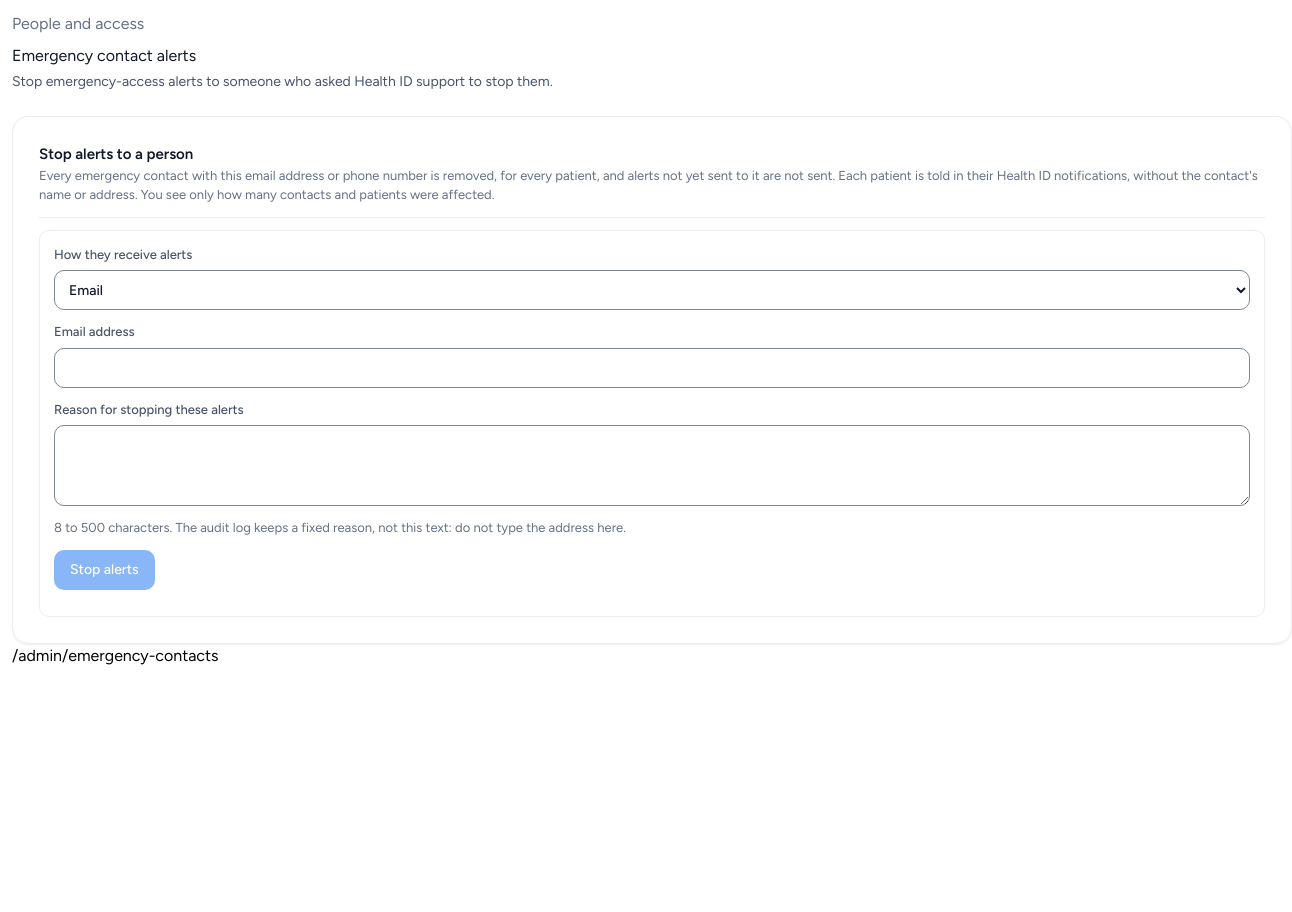
Test: stopping alerts to a person › sends the channel, address and reason with one key per submission, shows counts only and clears the address
Type " ada@example.com " into the field labelled "Email address". click: (652, 368)
box: [54, 348, 1250, 388]
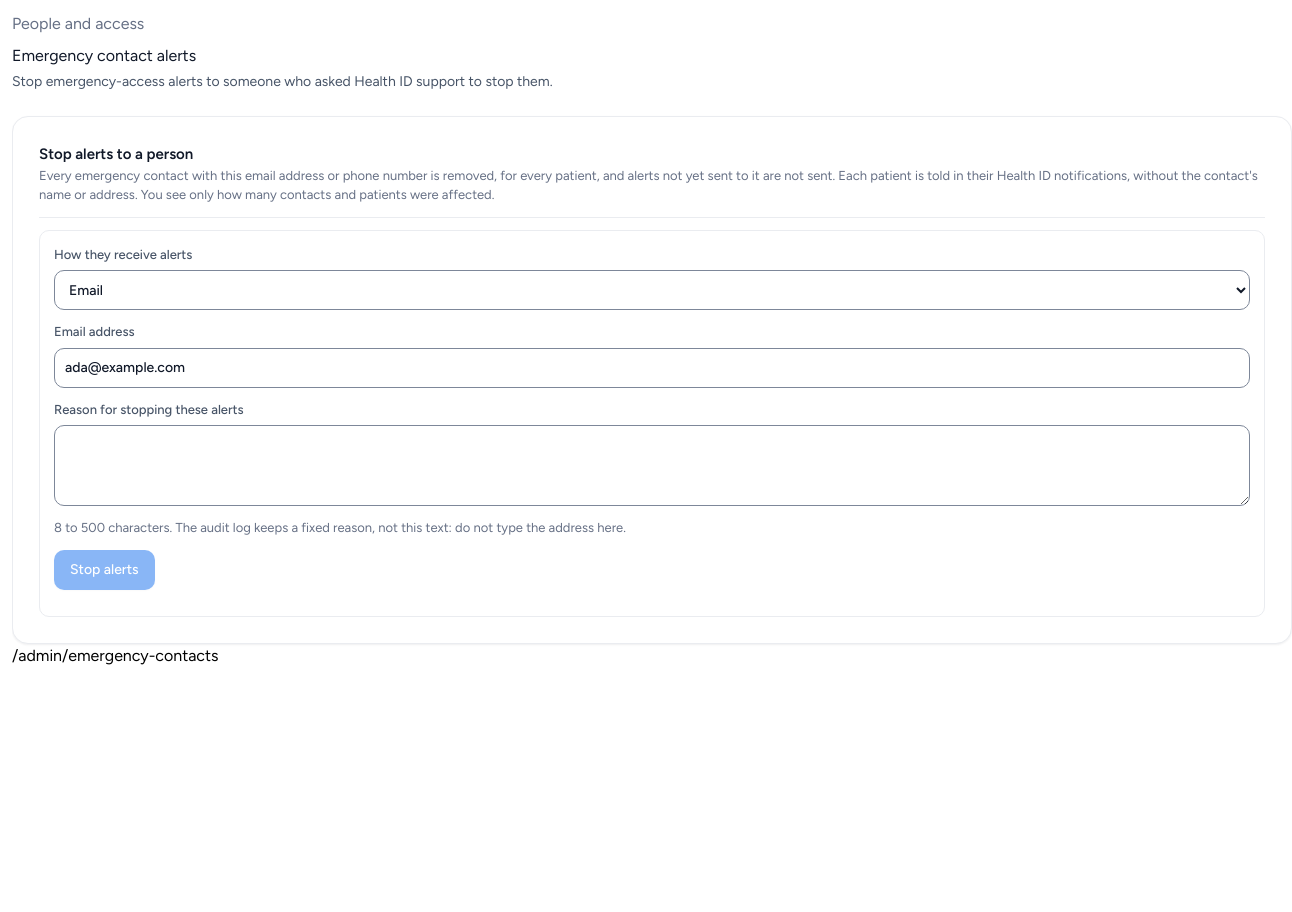
Check: the button "Stop alerts" is disabled, box [54, 550, 155, 590]
Type "Recipient called support" into the text box labelled "Reason for stopping these alerts". click: (652, 466)
box: [54, 425, 1250, 506]
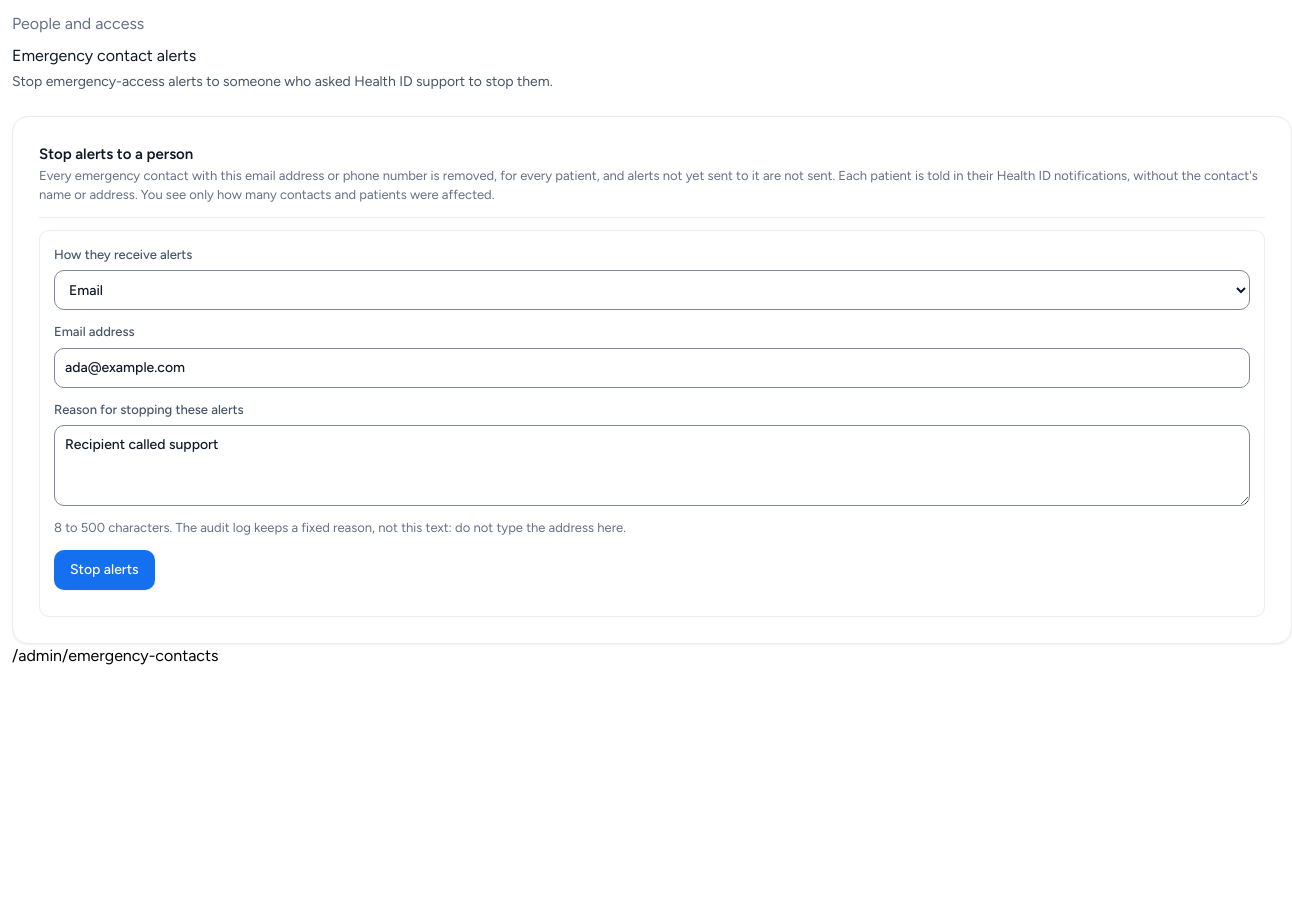
Click the button "Stop alerts". click: (104, 570)
box: [54, 550, 155, 590]
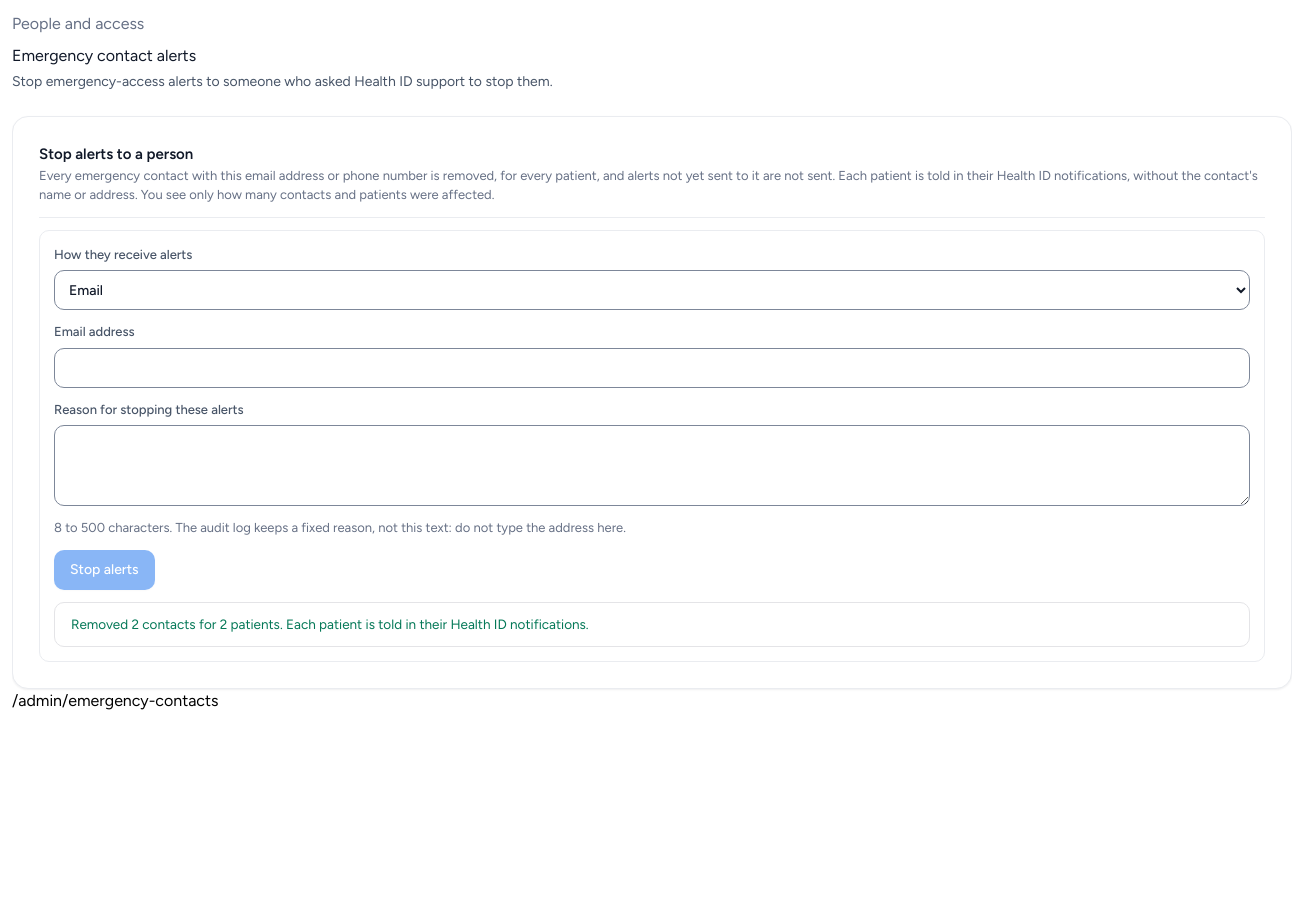
Check: the text "Removed 2 contacts for 2 patients. Each patient is told in their Health ID notifications." is shown, box [71, 616, 589, 632]
Check: the field labelled "Email address" is empty
Check: the text box labelled "Reason for stopping these alerts" is empty, box [54, 425, 1250, 506]
Type "nobody@example.com" into the field labelled "Email address". click: (652, 368)
box: [54, 348, 1250, 388]
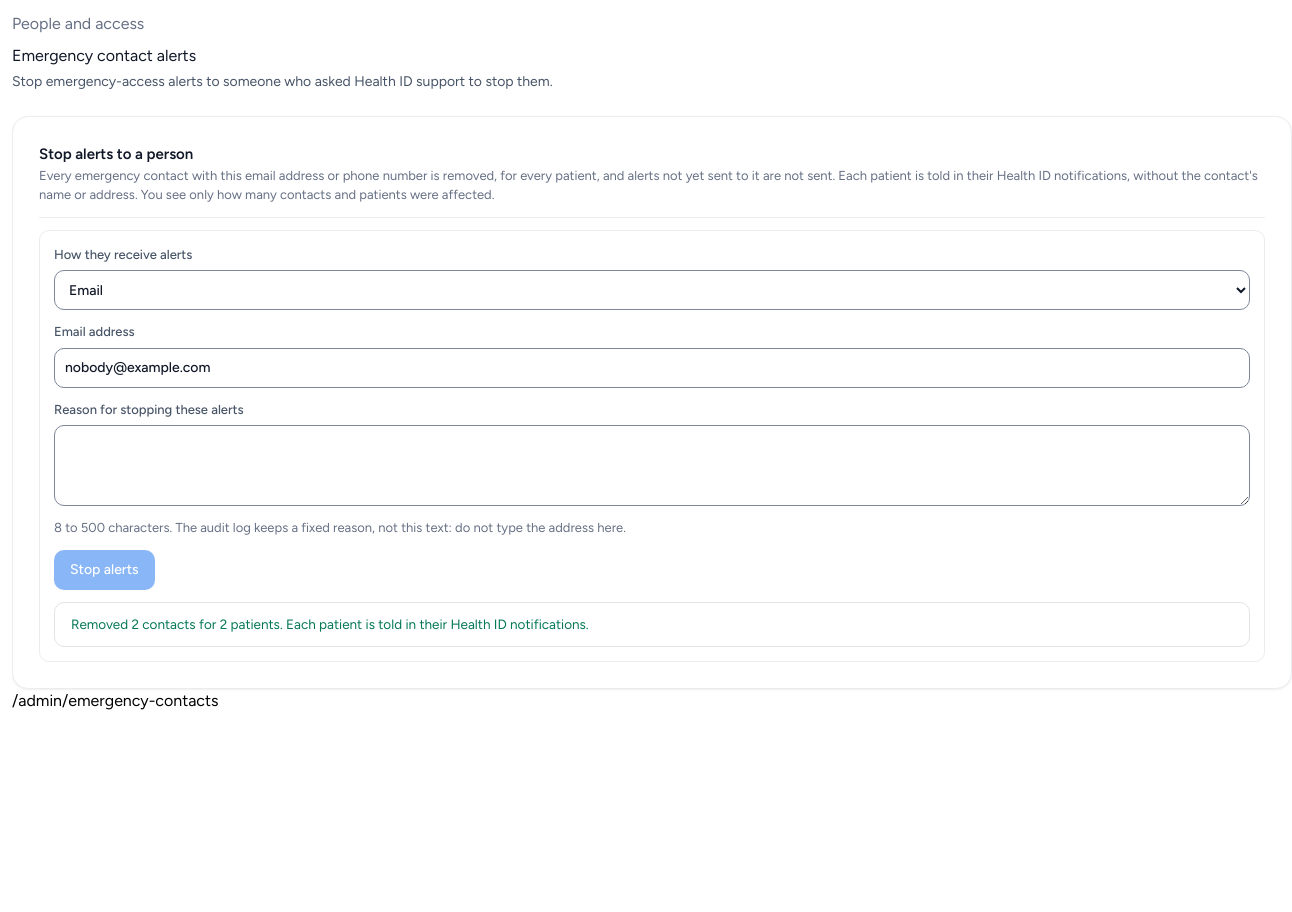
Type "Recipient called support" into the text box labelled "Reason for stopping these alerts". click: (652, 466)
box: [54, 425, 1250, 506]
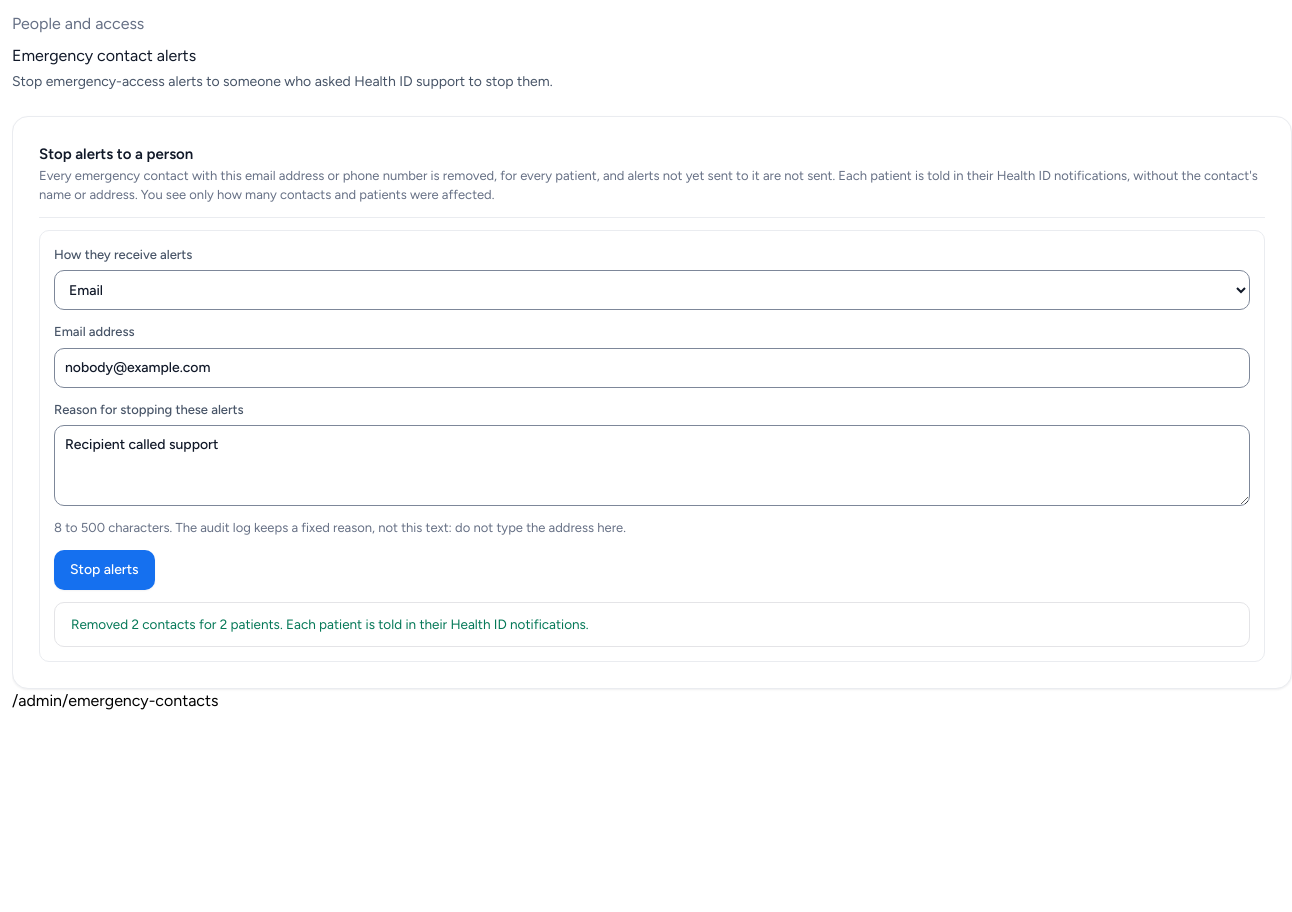
Click the button "Stop alerts". click: (104, 570)
box: [54, 550, 155, 590]
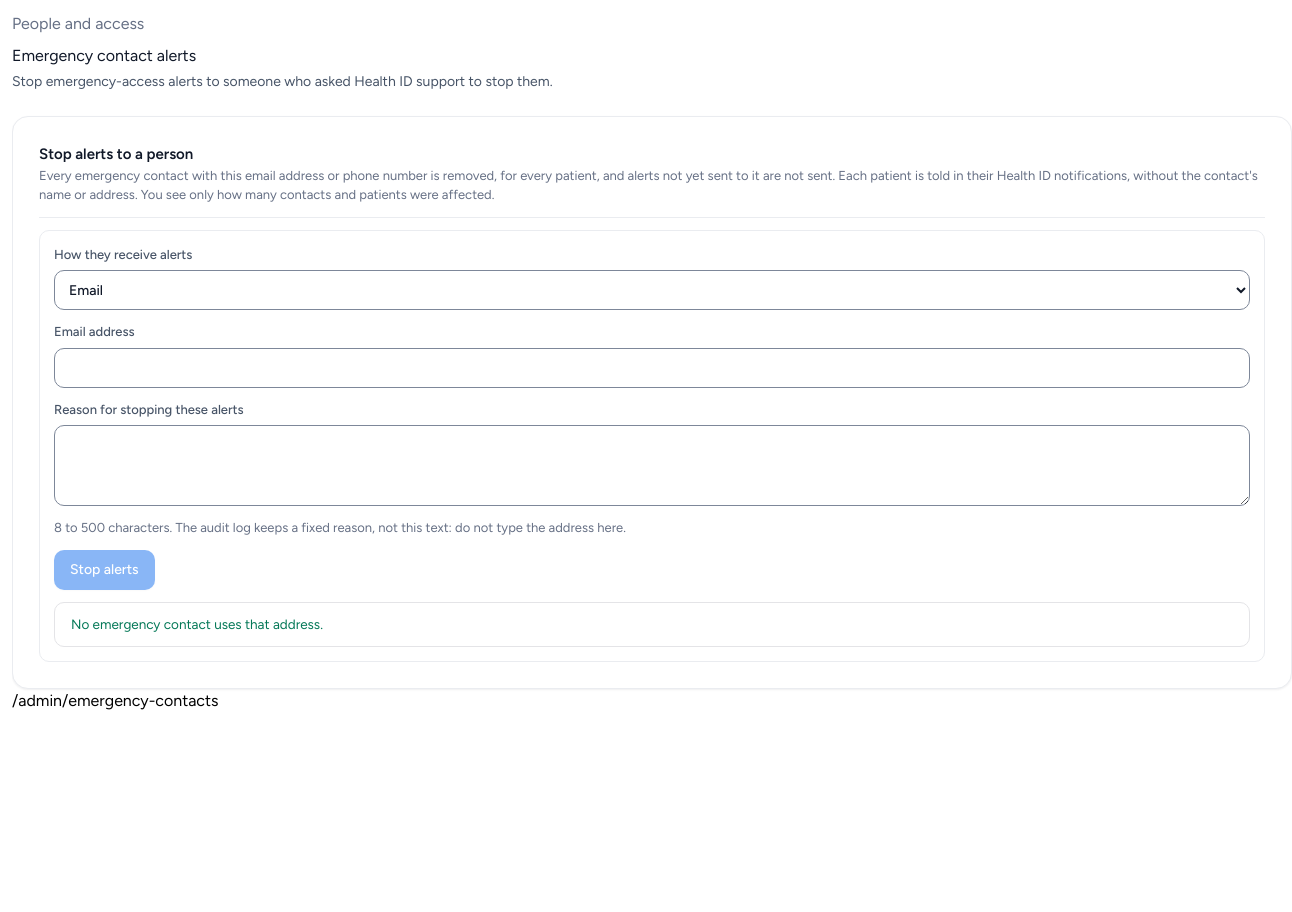
Check: the text "No emergency contact uses that address." is shown, box [54, 602, 1250, 647]
